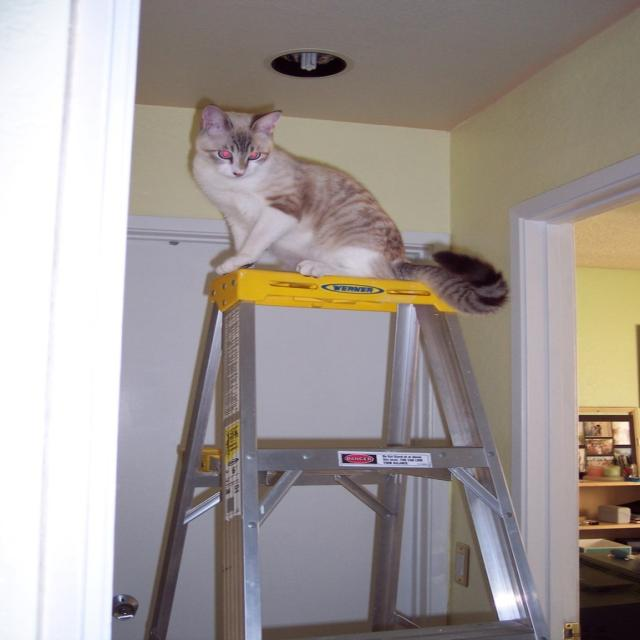Cat: (186, 104, 510, 320)
